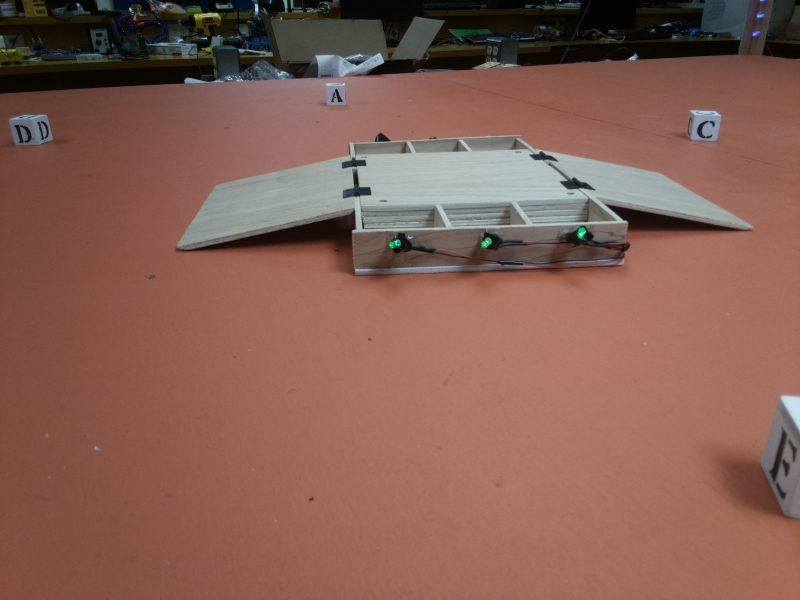blockA: (322, 84, 348, 111)
blockC: (686, 109, 726, 147)
blockD: (9, 116, 57, 147)
blockE: (761, 390, 800, 516)
corner: (737, 1, 773, 60)
side: (355, 202, 631, 276)
slope: (171, 141, 354, 257), (537, 148, 756, 232)
